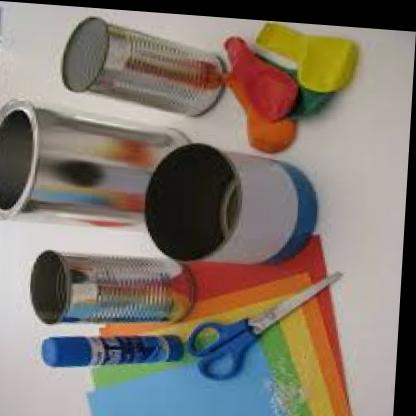Metal: (0, 93, 186, 248), (142, 133, 296, 278), (52, 10, 232, 123), (23, 277, 166, 332)
